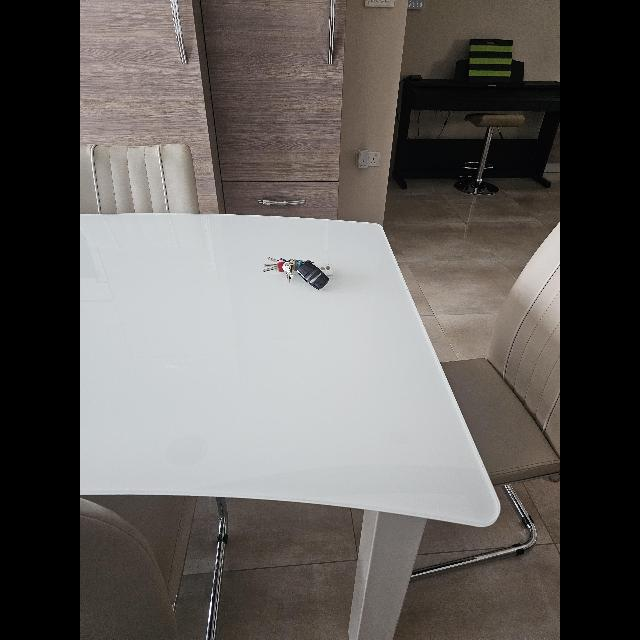Keys: (262, 256, 334, 288)
